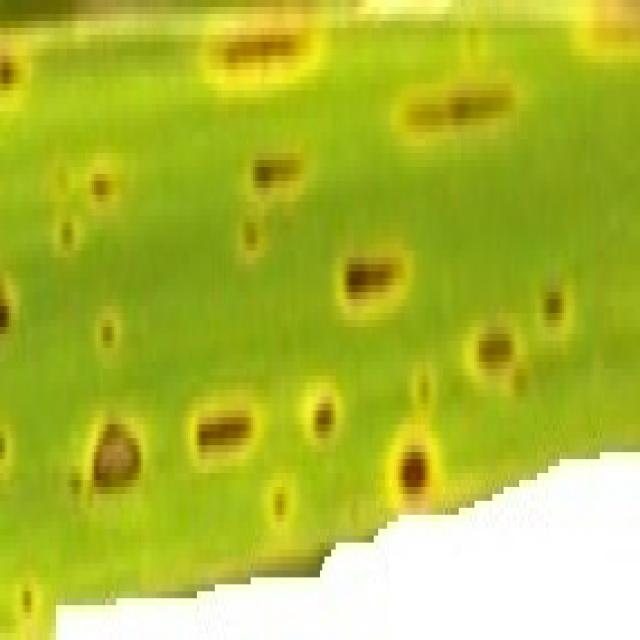Unhealthy: (204, 0, 327, 106), (390, 70, 523, 152), (235, 146, 319, 271), (48, 153, 127, 260), (329, 238, 414, 330), (465, 313, 534, 407), (186, 400, 262, 470), (88, 415, 145, 506), (388, 421, 440, 513), (571, 0, 640, 61), (301, 378, 341, 447), (537, 281, 576, 343), (93, 299, 123, 371), (0, 23, 25, 108), (14, 562, 39, 638), (0, 270, 20, 347), (412, 361, 435, 425), (268, 476, 293, 529), (66, 458, 83, 510), (0, 415, 13, 473)
